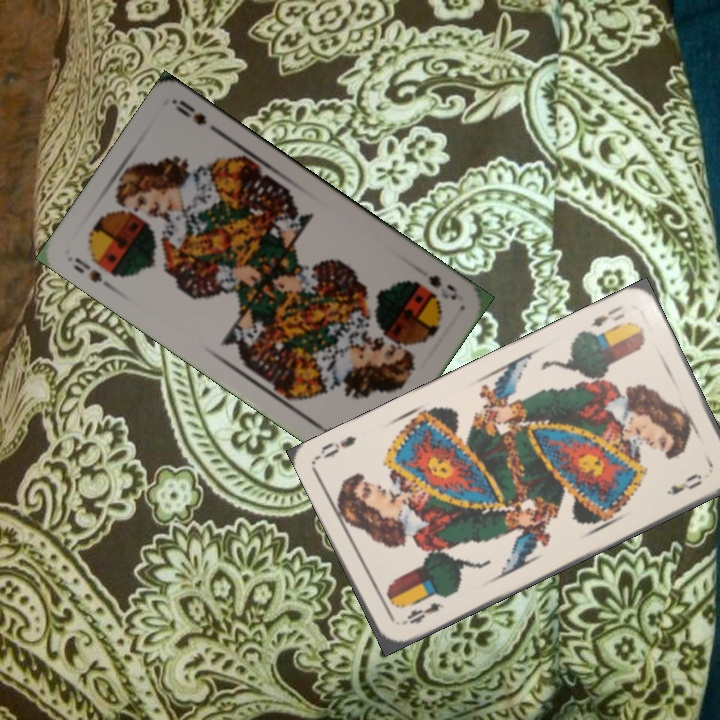EO: (397, 598, 447, 629), (586, 301, 627, 330)
SO: (69, 253, 117, 293), (424, 271, 461, 303)
